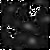node: (21, 22, 36, 32), (26, 36, 37, 46), (1, 33, 9, 46), (5, 5, 16, 13), (42, 14, 50, 24)
